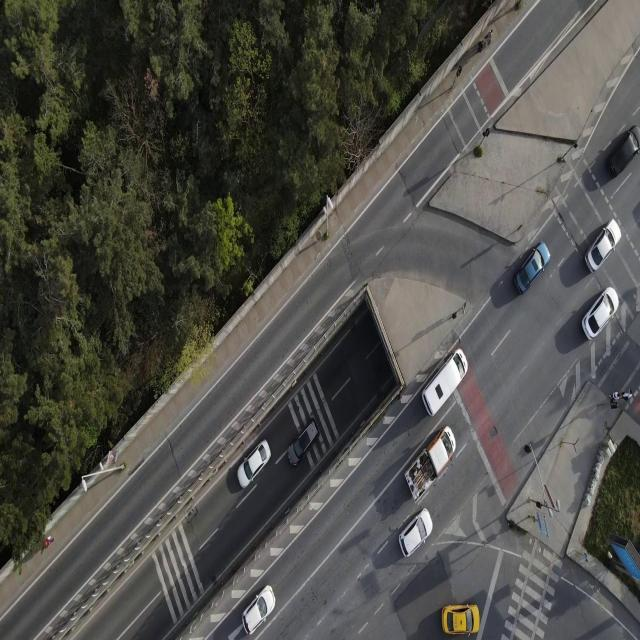p3rson: (484, 28, 493, 48), (620, 388, 632, 401), (610, 391, 620, 404), (476, 40, 483, 53)
